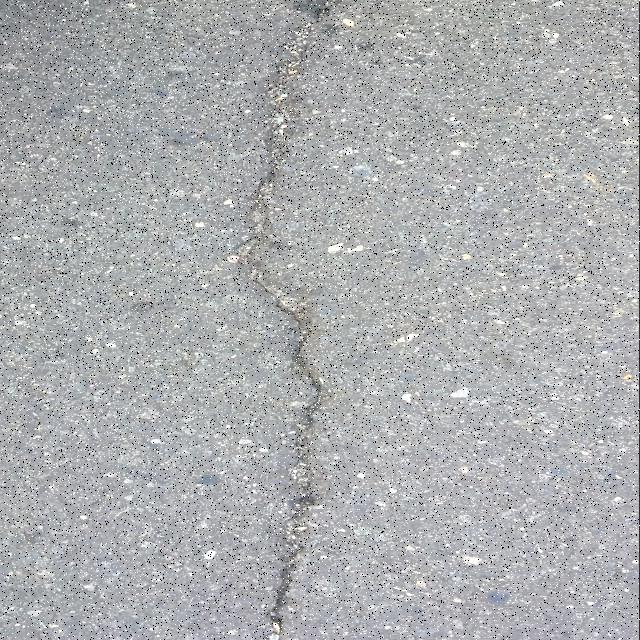Crack: (233, 0, 345, 640)
